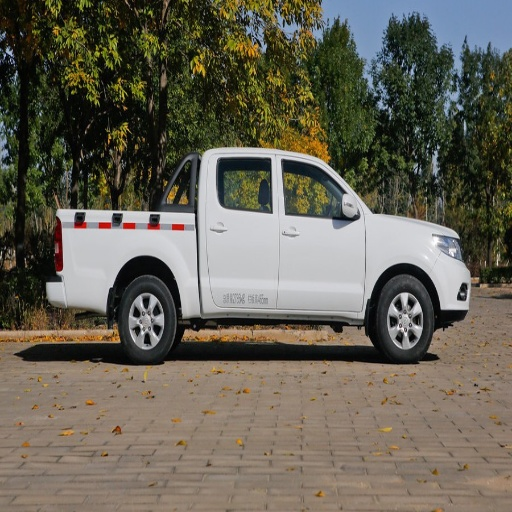back_left_light: (206, 155, 277, 307)
back_right_light: (437, 254, 468, 307)
front_left_light: (277, 155, 365, 309)
front_right_door: (433, 233, 464, 260)
tailgate: (60, 212, 201, 316)
trunk: (372, 276, 433, 361), (117, 276, 176, 362)
